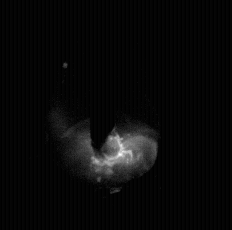arame: (91, 0, 116, 158)
poca: (61, 0, 157, 230)
